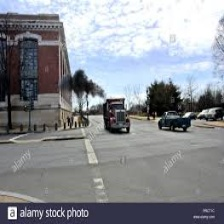smoke: (70, 70, 108, 99)
